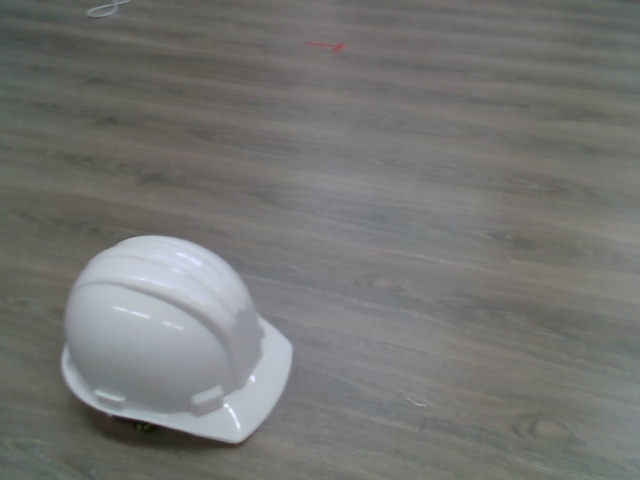helmet: (59, 234, 297, 447)
